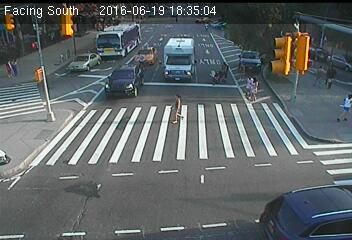neg: (213, 63, 231, 87), (140, 46, 155, 66), (67, 39, 80, 56), (260, 46, 272, 62), (314, 44, 326, 60), (243, 32, 253, 45), (57, 51, 67, 64)
pos: (166, 94, 188, 124), (246, 76, 266, 102), (313, 63, 331, 88), (338, 94, 351, 123), (241, 76, 258, 98), (1, 59, 14, 77), (9, 58, 22, 75)
